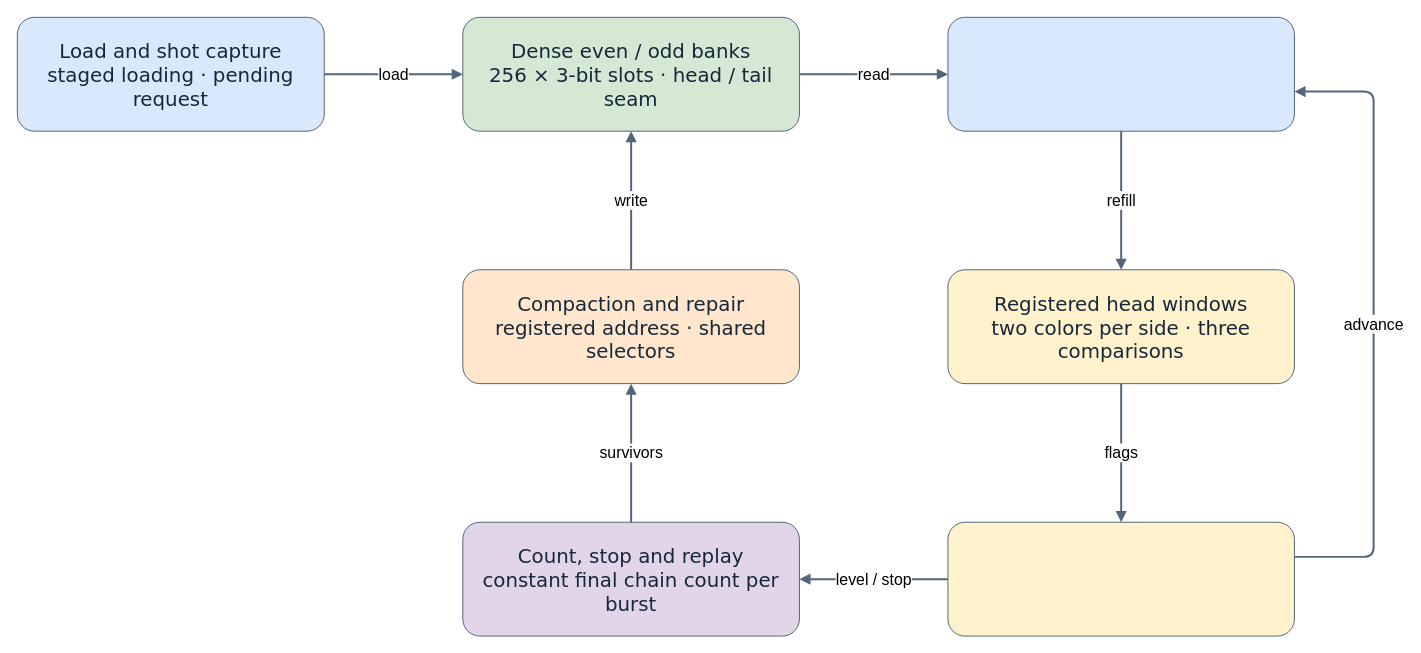
This 1421x653 diagram has some shape labels left out. Here are the shapes that lost their labels. From the top down, the centre of each, then its label:
At point (1120, 73): "Four parallel reads registered low selects · cyclic pointers".
At point (1120, 578): "Cached cascade decision one junction · zero / one / two per side".
